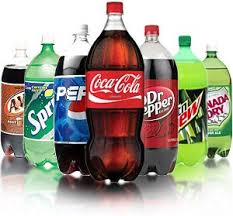coke: (88, 5, 144, 183)
